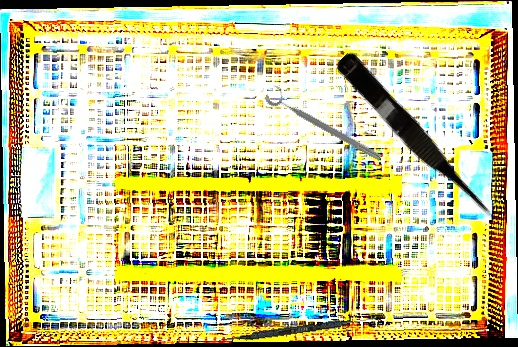Fixation Ring: (263, 82, 387, 165)
Micro Scissor: (330, 50, 502, 230)
Spatula Surgical: (218, 312, 382, 347)
